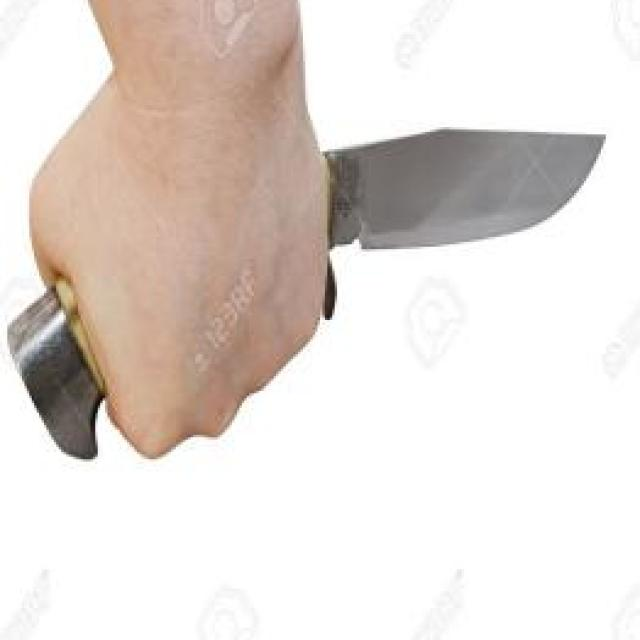knife: (239, 112, 633, 386)
